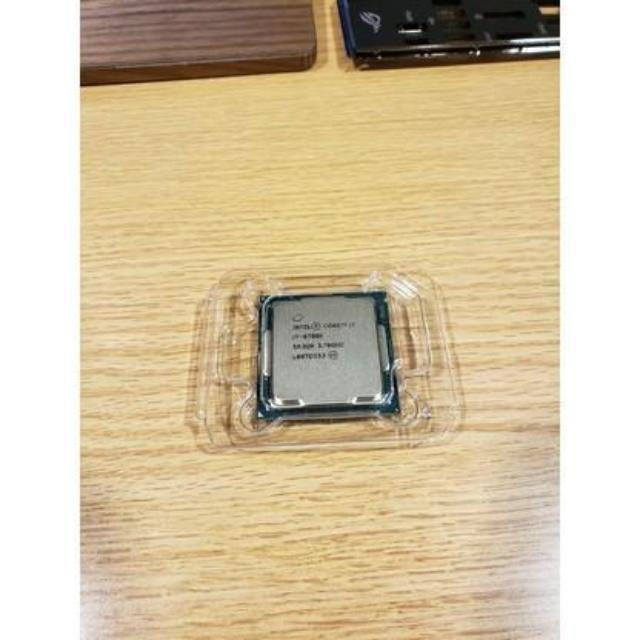CPU: (261, 296, 399, 414)
